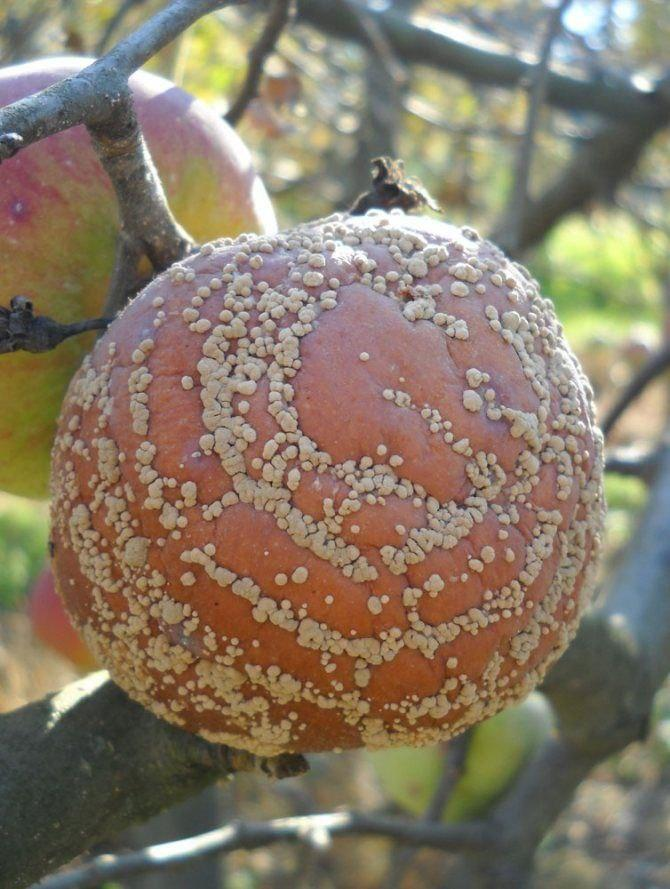Apple: (51, 216, 604, 756)
